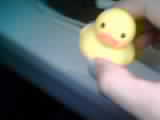duck: (79, 11, 142, 69)
